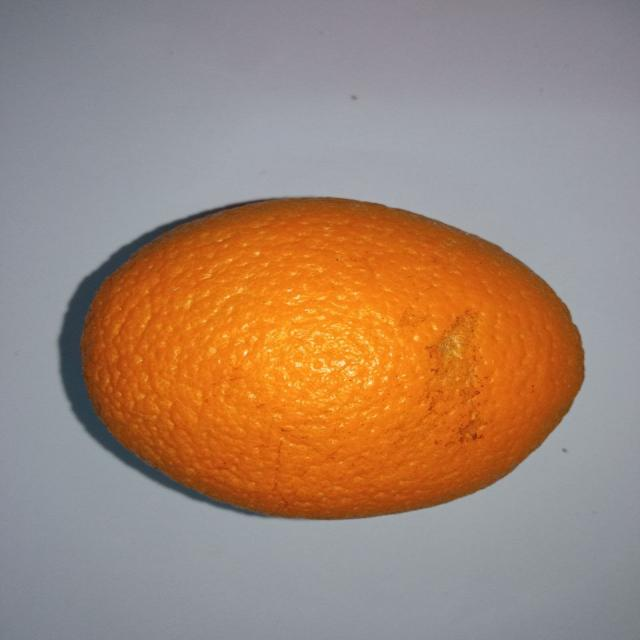fresh_orange: (81, 196, 586, 520)
